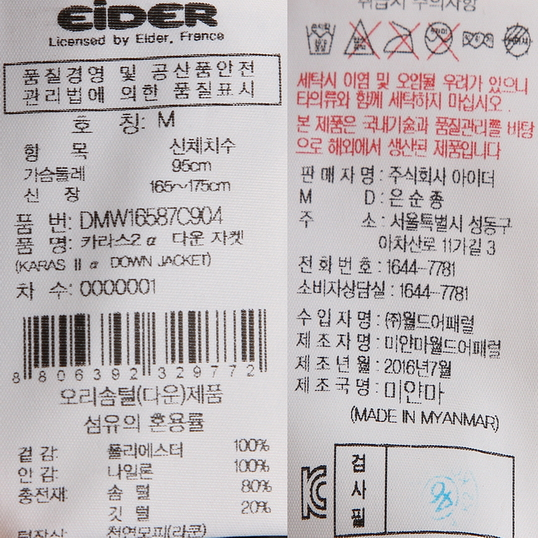do_not_bleach: (344, 18, 377, 61)
do_not_dry_clean: (424, 18, 456, 58)
do_not_iron: (383, 20, 417, 58)
